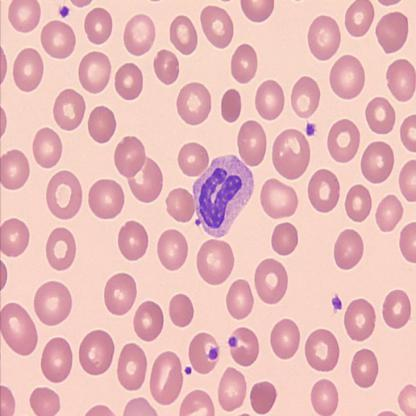Band Neutrophil: (192, 152, 256, 240)
